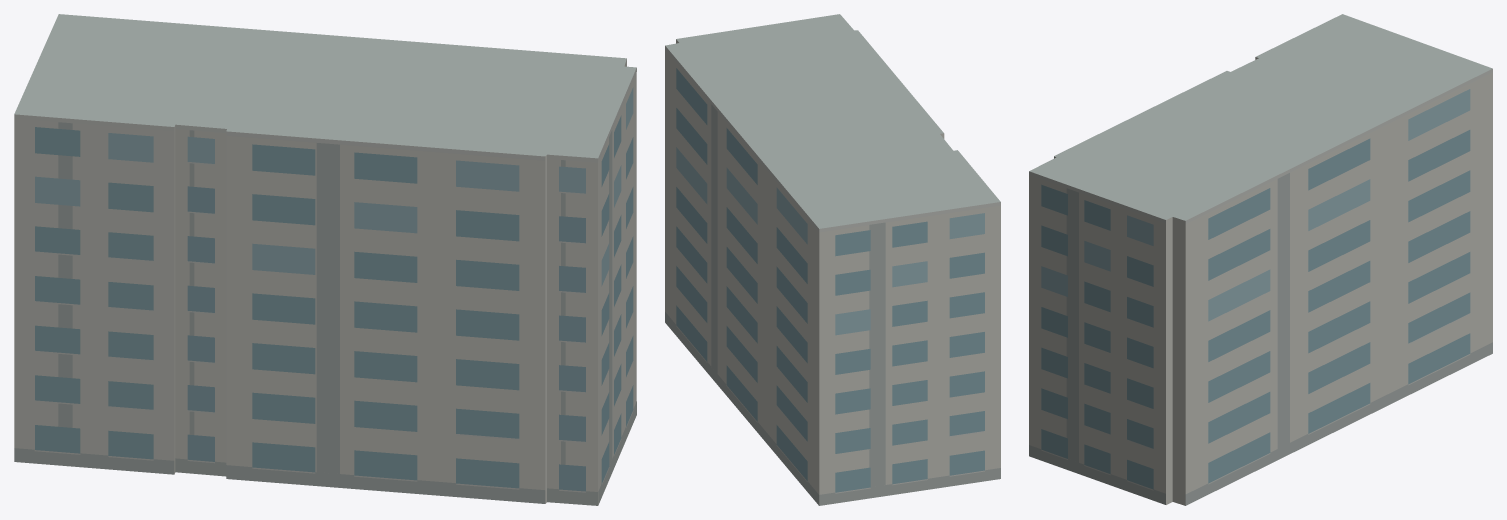
The model's file is survey-upis-32656792.glb.
3 renders of one model, left to right at view 1: azimuth 30°, elevation 25°; view 2: azimuth 150°, elevation 25°; view 3: azimuth 270°, elevation 25°, orthographic. The views are drawn at different scales.
Visible parts, largest first — view 1: survey-upis-32656792.tmp; view 2: survey-upis-32656792.tmp; view 3: survey-upis-32656792.tmp.
Part boxes in pixels (bbox=[...]): survey-upis-32656792.tmp: bbox=[14, 14, 636, 505]; survey-upis-32656792.tmp: bbox=[665, 14, 1000, 505]; survey-upis-32656792.tmp: bbox=[1029, 14, 1492, 505].
Bounding box in the file's own units: 30.59 × 19.65 × 28.98.
